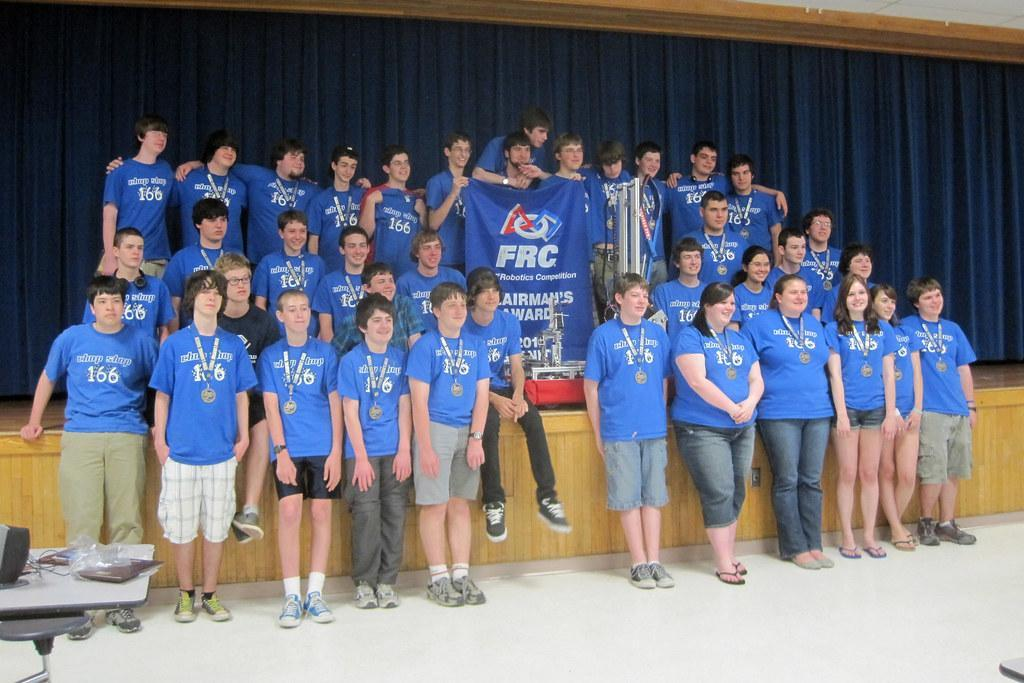robot: (507, 173, 656, 417)
